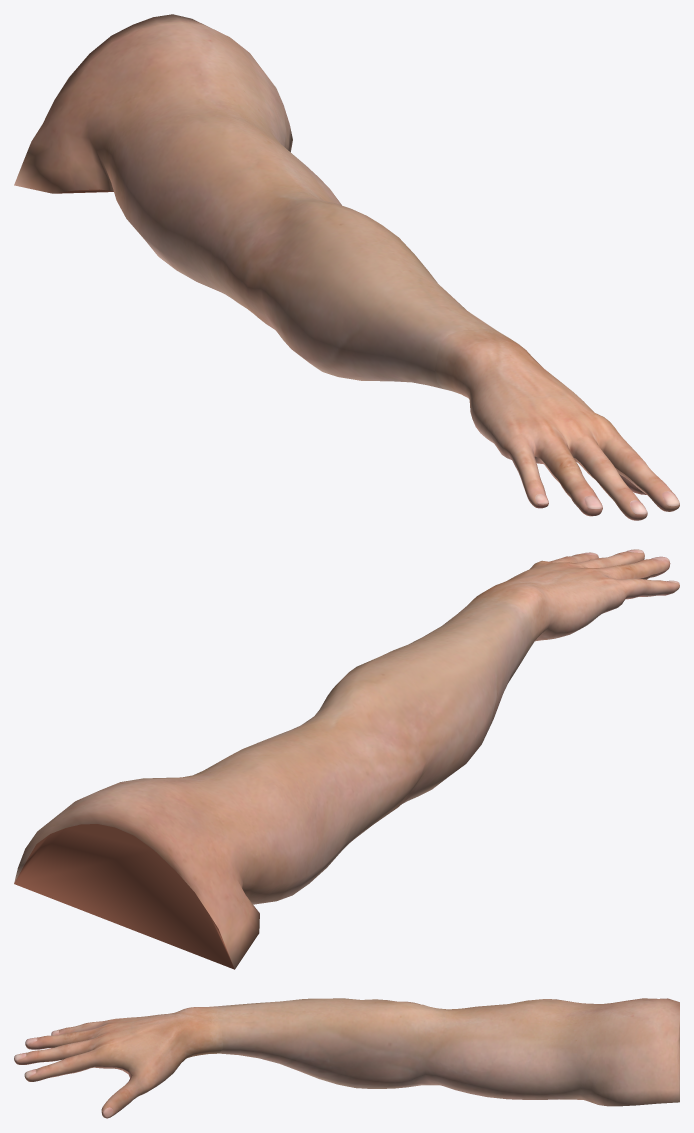
Rendered from rightArm.glb.
3 views of the same model, one above another, from view 1: azimuth 30°, elevation 25°; view 2: azimuth 150°, elevation 25°; view 3: azimuth 270°, elevation 25° (orthographic). The views are drawn at different scales.
Parts seen in each view (by area): view 1: rightArm; view 2: rightArm; view 3: rightArm.
Part boxes in pixels (box(x1,y1,x2,y2)): rightArm: box(14, 14, 679, 520); rightArm: box(14, 549, 679, 969); rightArm: box(14, 998, 679, 1118).
Bounding box in the file's own units: 0.3456 × 0.2192 × 1.32.
Materials: 1 (1 with a texture image).
